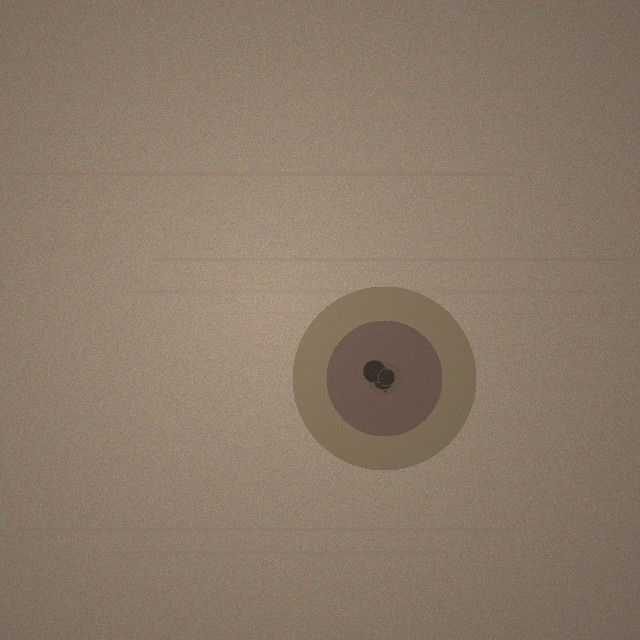shrinkage: (292, 286, 476, 470)
